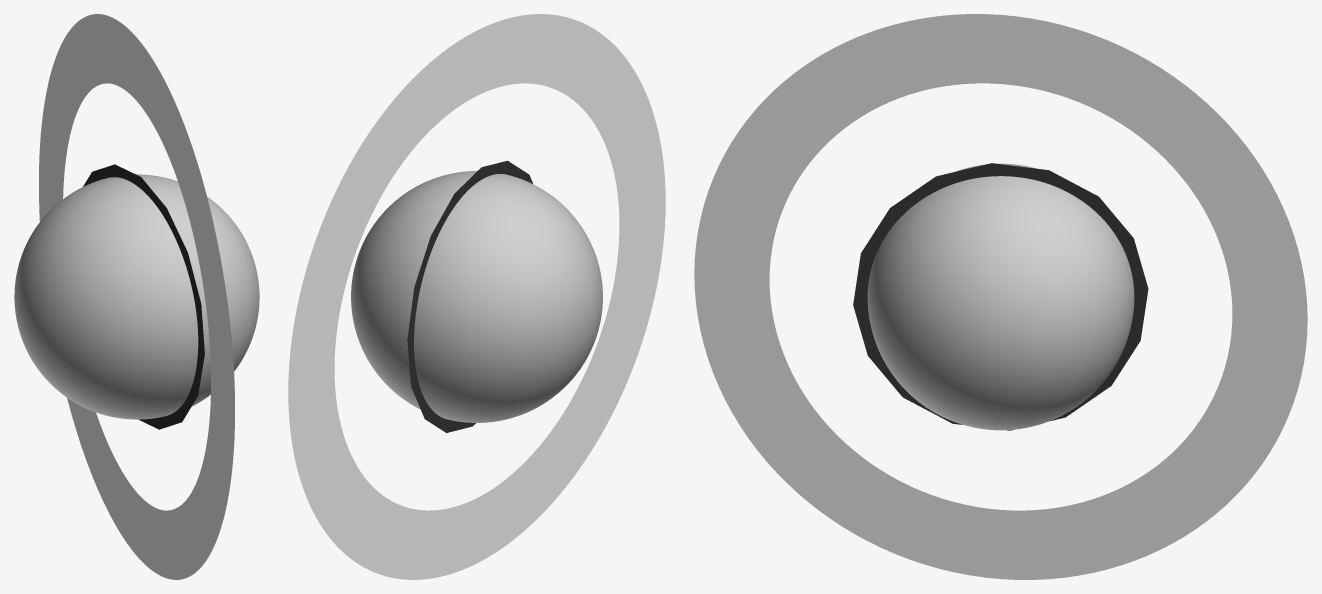
File: Uranus.fbx
The picture shows the model from 3 angles, left to right: view 1: azimuth 30°, elevation 25°; view 2: azimuth 150°, elevation 25°; view 3: azimuth 270°, elevation 25°; orthographic projection. The views are drawn at different scales.
Parts seen in each view (by area): view 1: Uranus, UranusRings, UranusGlow; view 2: UranusRings, Uranus, UranusGlow; view 3: UranusRings, Uranus, UranusGlow.
Part boxes in pixels (x1=…): Uranus: x1=14, y1=174, x2=259, y2=419; UranusRings: x1=39, y1=14, x2=234, y2=579; UranusGlow: x1=83, y1=164, x2=204, y2=429; UranusRings: x1=288, y1=14, x2=665, y2=579; Uranus: x1=351, y1=171, x2=602, y2=422; UranusGlow: x1=407, y1=160, x2=532, y2=432; UranusRings: x1=694, y1=14, x2=1307, y2=579; Uranus: x1=867, y1=163, x2=1134, y2=430; UranusGlow: x1=853, y1=163, x2=1148, y2=430.
Size of the model in its own units: 2.54 by 5.92 by 5.83.
